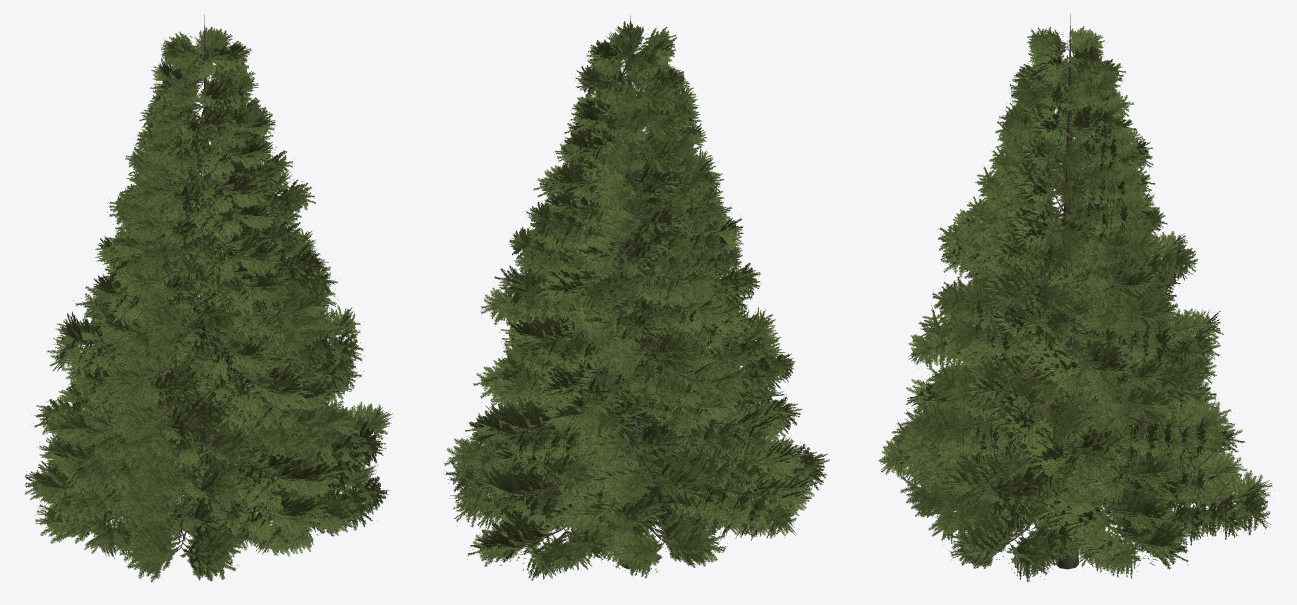
The model's file is mature-fir.glb.
3 renders of one model, left to right at view 1: azimuth 30°, elevation 25°; view 2: azimuth 150°, elevation 25°; view 3: azimuth 270°, elevation 25°, orthographic.
Visible parts, largest first — view 1: fir_tree_01_twig, fir_tree_01_bark; view 2: fir_tree_01_twig, fir_tree_01_bark; view 3: fir_tree_01_twig, fir_tree_01_bark.
Boxes of the visible parts, left/top/right/bottom form: fir_tree_01_twig: left=25, top=26, right=392, bottom=582; fir_tree_01_bark: left=52, top=14, right=371, bottom=555; fir_tree_01_twig: left=443, top=21, right=829, bottom=580; fir_tree_01_bark: left=471, top=15, right=790, bottom=568; fir_tree_01_twig: left=878, top=26, right=1272, bottom=582; fir_tree_01_bark: left=898, top=14, right=1253, bottom=569.
Bounding box in the file's own units: 5.91 × 9 × 6.13.
2 materials, 2 textured.
